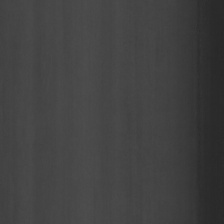silk_spot: (130, 115, 159, 162)
